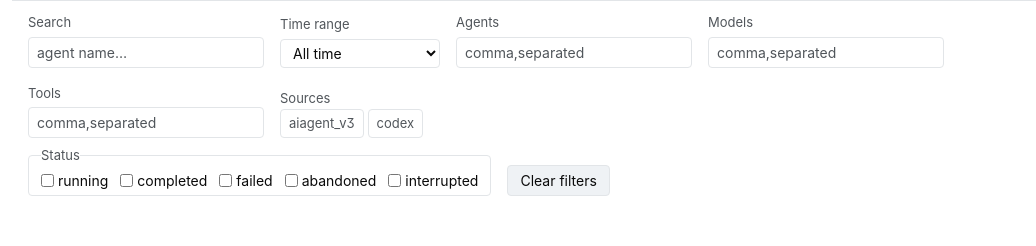
FilterBar › editing the agents input writes a comma-joined param
Type "m1" into the field named "Models filter" at [826, 52], box [708,36,944,68]
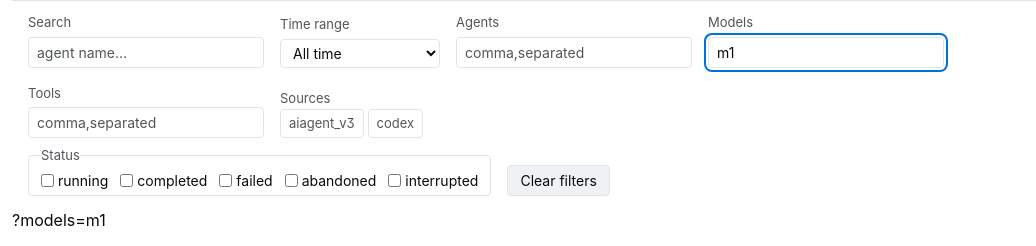
Result: the text with test id "loc" shows "models=m1" at [12,210,106,230]
